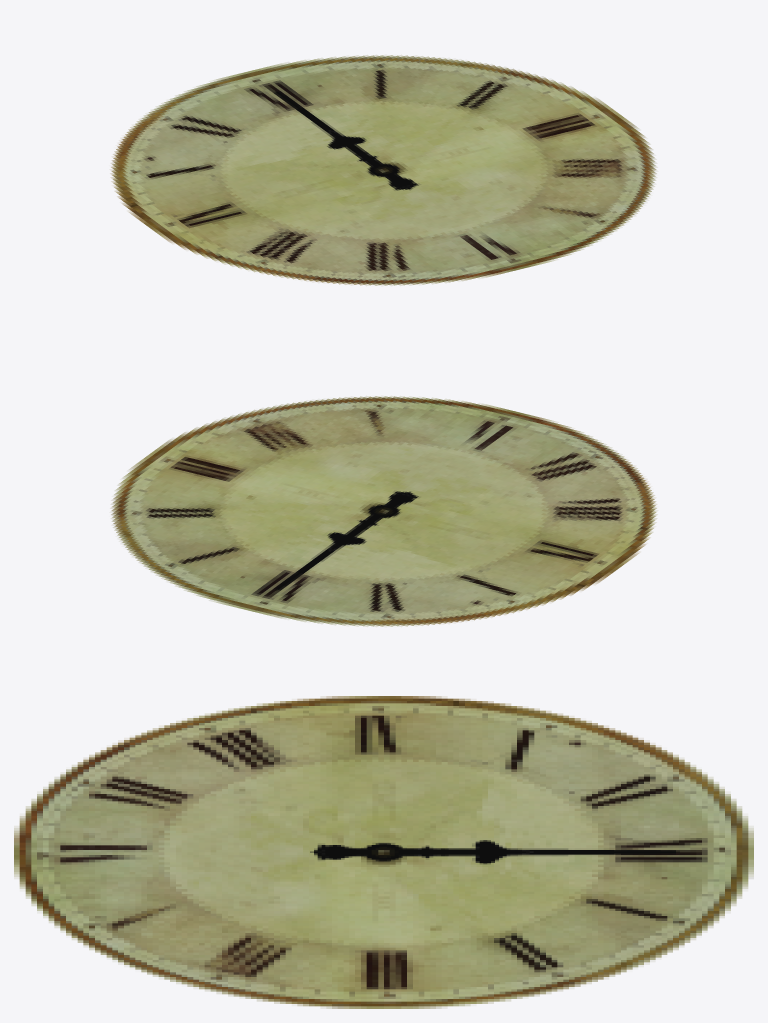
Rendered from clock.glb.
The picture shows the model from 3 angles, top to bottom: view 1: azimuth 30°, elevation 25°; view 2: azimuth 150°, elevation 25°; view 3: azimuth 270°, elevation 25°; orthographic projection. The views are drawn at different scales.
Visible parts, largest first — view 1: face, hour hand, minute hand; view 2: face, hour hand, minute hand; view 3: face, hour hand, minute hand.
Part boxes in pixels (<box>): face: <box>110,55,657,285</box>; hour hand: <box>327,130,414,187</box>; minute hand: <box>274,91,418,190</box>; face: <box>110,396,657,626</box>; hour hand: <box>327,493,414,551</box>; minute hand: <box>273,491,418,590</box>; face: <box>14,696,753,1008</box>; hour hand: <box>318,840,533,864</box>; minute hand: <box>310,843,679,860</box>.
Size of the model in its own units: 3 by 0.001 by 3.
Materials: 3 (3 with a texture image).
